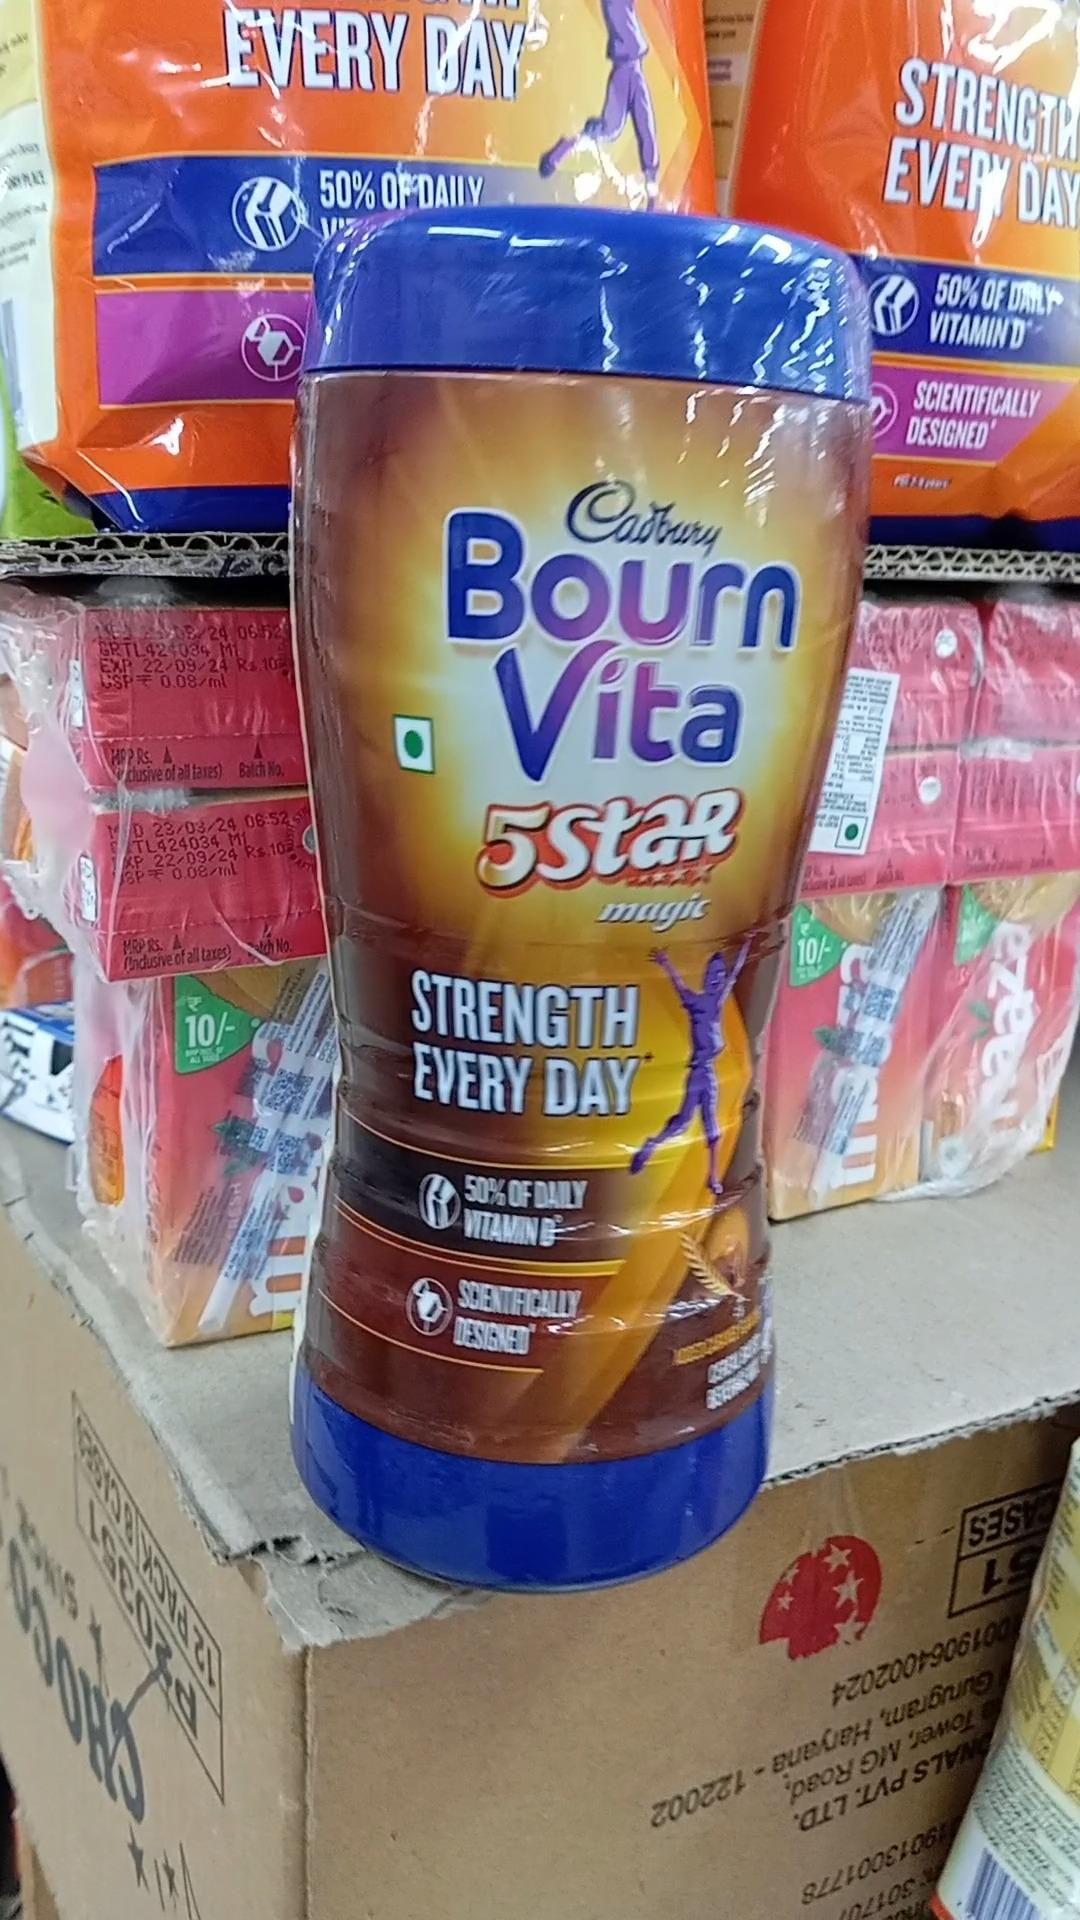BOURN_VITA_FIVE_STAR_MAGIC_500_G_JAR: (286, 186, 877, 1584)
